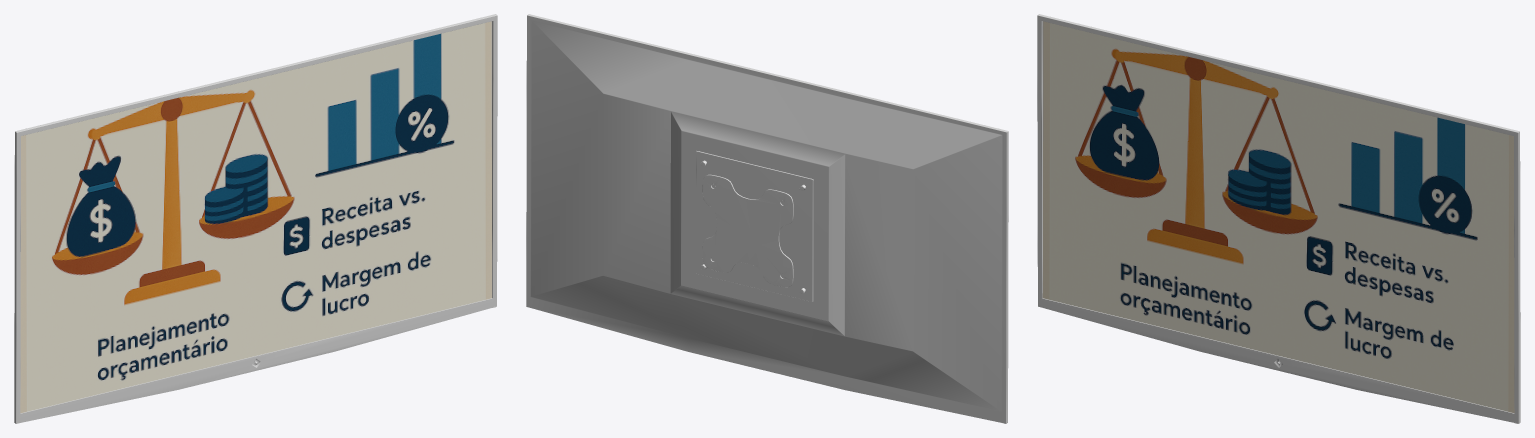
File: televisao.fbx
3 renders of one model, left to right at view 1: azimuth 30°, elevation 25°; view 2: azimuth 150°, elevation 25°; view 3: azimuth 330°, elevation 25°, orthographic.
Visible parts, largest first — view 1: Plane.001, Plane.082; view 2: Plane.082; view 3: Plane.001, Plane.082.
Boxes of the visible parts, x1=… form: Plane.001: x1=20, y1=21, x2=491, y2=413; Plane.082: x1=14, y1=14, x2=497, y2=423; Plane.082: x1=526, y1=14, x2=1008, y2=423; Plane.001: x1=1042, y1=21, x2=1514, y2=413; Plane.082: x1=1037, y1=14, x2=1520, y2=423.
Bounding box in the file's own units: 135 × 79.92 × 10.26.
4 materials, 1 textured.
